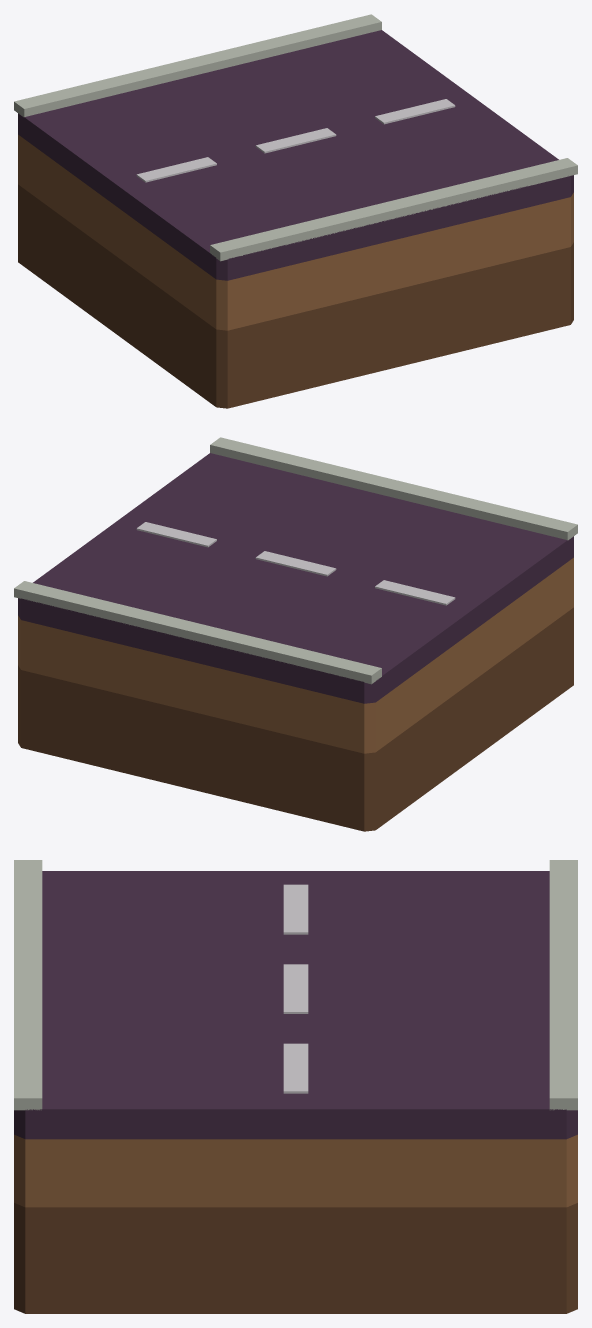
The model's file is road.glb.
3 views of the same model, one above another, from view 1: azimuth 30°, elevation 25°; view 2: azimuth 150°, elevation 25°; view 3: azimuth 270°, elevation 25° (orthographic). The views are drawn at different scales.
Parts seen in each view (by area): view 1: road; view 2: road; view 3: road.
Part boxes in pixels (x1,y1,x2,y2): road: (14,14,577,408); road: (14,437,577,831); road: (14,860,577,1313).
Bounding box in the file's own units: 6 × 2.53 × 6.
